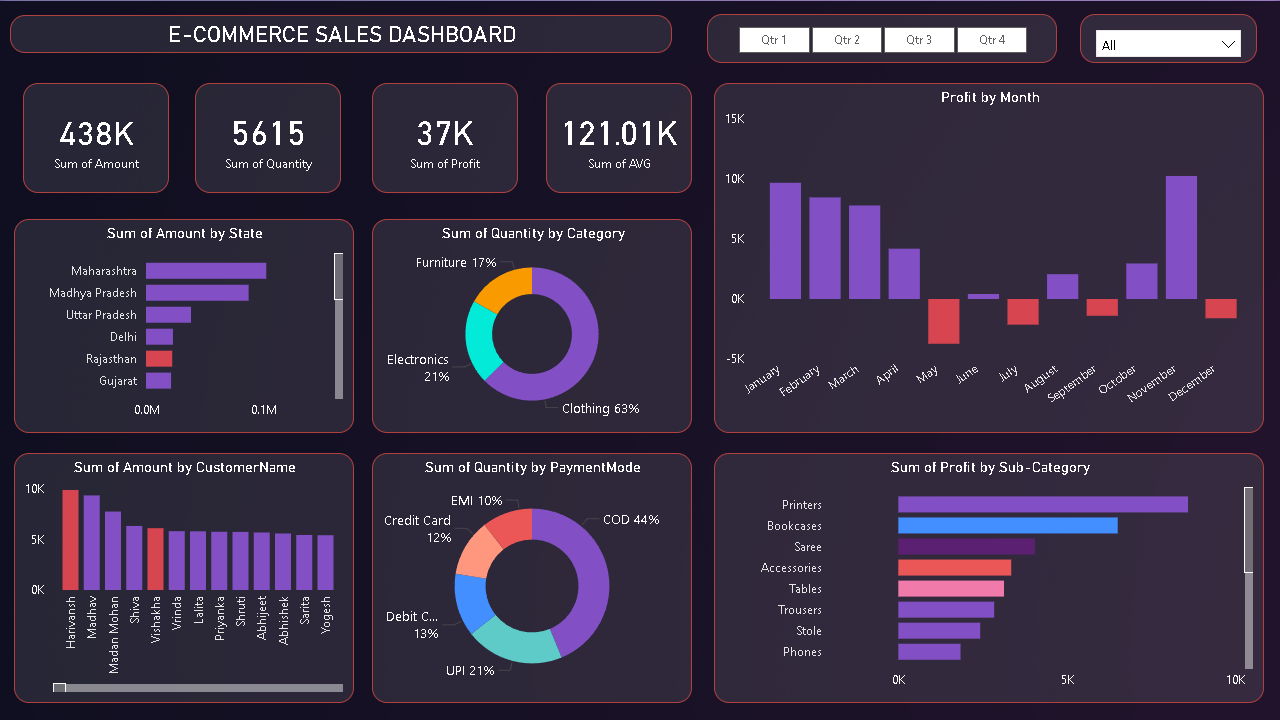

The page's visual inventory and layout, read from the dashboard file:
{"tool":"powerbi","page":{"name":"Page 1","canvas":[1280,720],"ordinal":0},"visuals":[{"type":"textbox","title":"E-COMMERCE SALES DASHBOARD","box":[9.8,14.2,662.4,38.1],"z":0},{"type":"columnChart","title":"Profit by Month","fields":{"Y":["Details.Profit"],"Category":["Orders.Order Date.Variation.Date Hierarchy.Month"]},"box":[714,82,550,350],"z":1000},{"type":"donutChart","fields":{"Category":["Details.Category"],"Y":["Details.Quantity"]},"box":[372,218,320,214],"z":2000},{"type":"clusteredBarChart","fields":{"Category":["Details.Sub-Category"],"Y":["Details.Profit"]},"box":[714,452,550,250],"z":3000},{"type":"donutChart","fields":{"Y":["Details.Quantity"],"Category":["Details.PaymentMode"]},"box":[372,452,320,250],"z":4000},{"type":"card","fields":{"Values":["Details.Amount"]},"box":[23,82,146,110],"z":5000},{"type":"card","fields":{"Values":["Details.Profit"]},"box":[372,82,146,110],"z":6000},{"type":"card","fields":{"Values":["Details.Quantity"]},"box":[195,82,146,110],"z":7000},{"type":"card","fields":{"Values":["Details.AVG"]},"box":[546,82,146,110],"z":8000},{"type":"clusteredBarChart","fields":{"Category":["Orders.State"],"Y":["Details.Amount"]},"box":[14,218,340,214],"z":9000},{"type":"clusteredColumnChart","fields":{"Category":["Orders.CustomerName"],"Y":["Details.Amount"]},"box":[14,452,340,250],"z":10000},{"type":"slicer","fields":{"Values":["Orders.Order Date.Variation.Date Hierarchy.Quarter"]},"box":[706.7,13.3,350,48.3],"z":11000},{"type":"slicer","fields":{"Values":["Orders.State"]},"box":[1080,13.3,176.7,48.3],"z":12000}]}

Visuals, with their boxes in screenshot pixels (x1, y1, x2, y2), scaled from the page's 1280x720 canvas onto the 1280x720 screenshot:
"E-COMMERCE SALES DASHBOARD" textbox: (left=10, top=14, right=672, bottom=52)
"Profit by Month" columnChart: (left=714, top=82, right=1264, bottom=432)
donutChart - Details.Category x Details.Quantity: (left=372, top=218, right=692, bottom=432)
clusteredBarChart - Details.Sub-Category x Details.Profit: (left=714, top=452, right=1264, bottom=702)
donutChart - Details.Quantity x Details.PaymentMode: (left=372, top=452, right=692, bottom=702)
card - Details.Amount: (left=23, top=82, right=169, bottom=192)
card - Details.Profit: (left=372, top=82, right=518, bottom=192)
card - Details.Quantity: (left=195, top=82, right=341, bottom=192)
card - Details.AVG: (left=546, top=82, right=692, bottom=192)
clusteredBarChart - Orders.State x Details.Amount: (left=14, top=218, right=354, bottom=432)
clusteredColumnChart - Orders.CustomerName x Details.Amount: (left=14, top=452, right=354, bottom=702)
slicer - Orders.Order Date.Variation.Date Hierarchy.Quarter: (left=707, top=13, right=1057, bottom=62)
slicer - Orders.State: (left=1080, top=13, right=1257, bottom=62)
